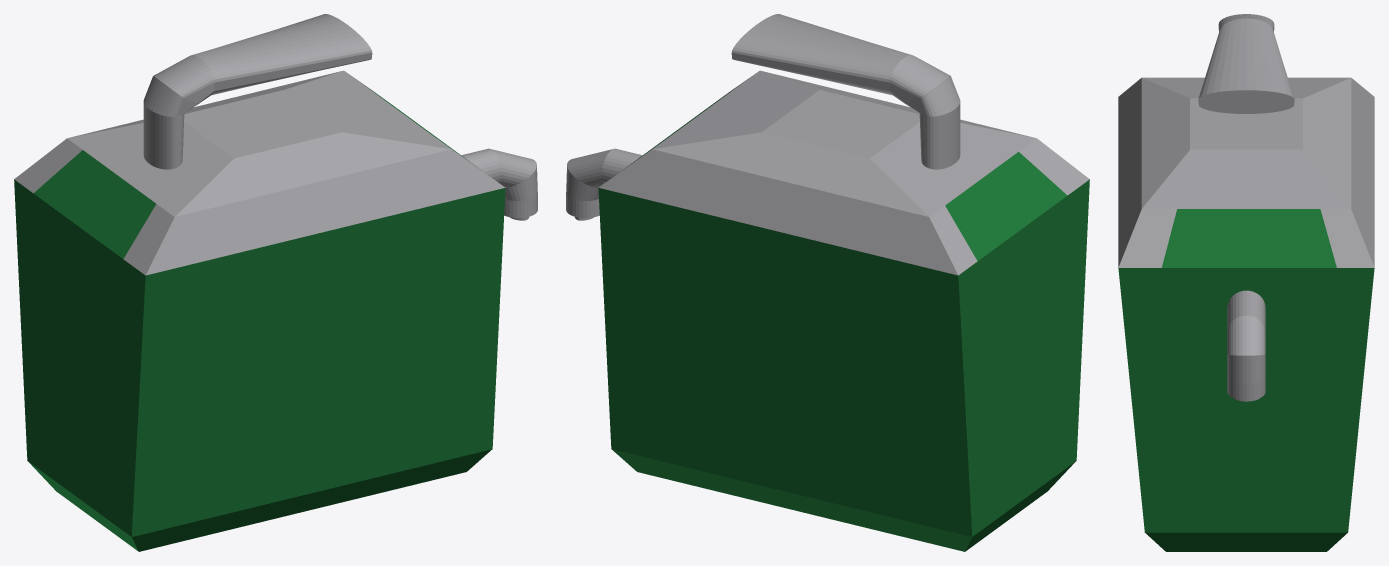
File: Relish.fbx
The picture shows the model from 3 angles, left to right: view 1: azimuth 30°, elevation 25°; view 2: azimuth 150°, elevation 25°; view 3: azimuth 270°, elevation 25°; orthographic projection. The views are drawn at different scales.
Visible parts, largest first — view 1: Cube, Cylinder, Cylinder.002; view 2: Cube, Cylinder, Cylinder.002; view 3: Cube, Cylinder, Cylinder.002.
Part boxes in pixels (box(x1,y1,x2,y2)): Cube: box(14, 70, 505, 551); Cylinder: box(143, 14, 372, 169); Cylinder.002: box(461, 148, 537, 220); Cube: box(598, 70, 1089, 551); Cylinder: box(731, 14, 960, 169); Cylinder.002: box(566, 148, 642, 220); Cube: box(1118, 77, 1374, 551); Cylinder: box(1198, 14, 1294, 113); Cylinder.002: box(1227, 290, 1265, 401).
Size of the model in its own units: 153 by 141 by 76.59.
